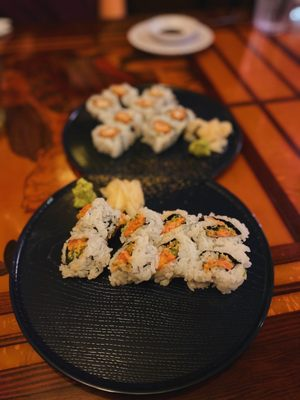sushi: (1, 159, 275, 399)
